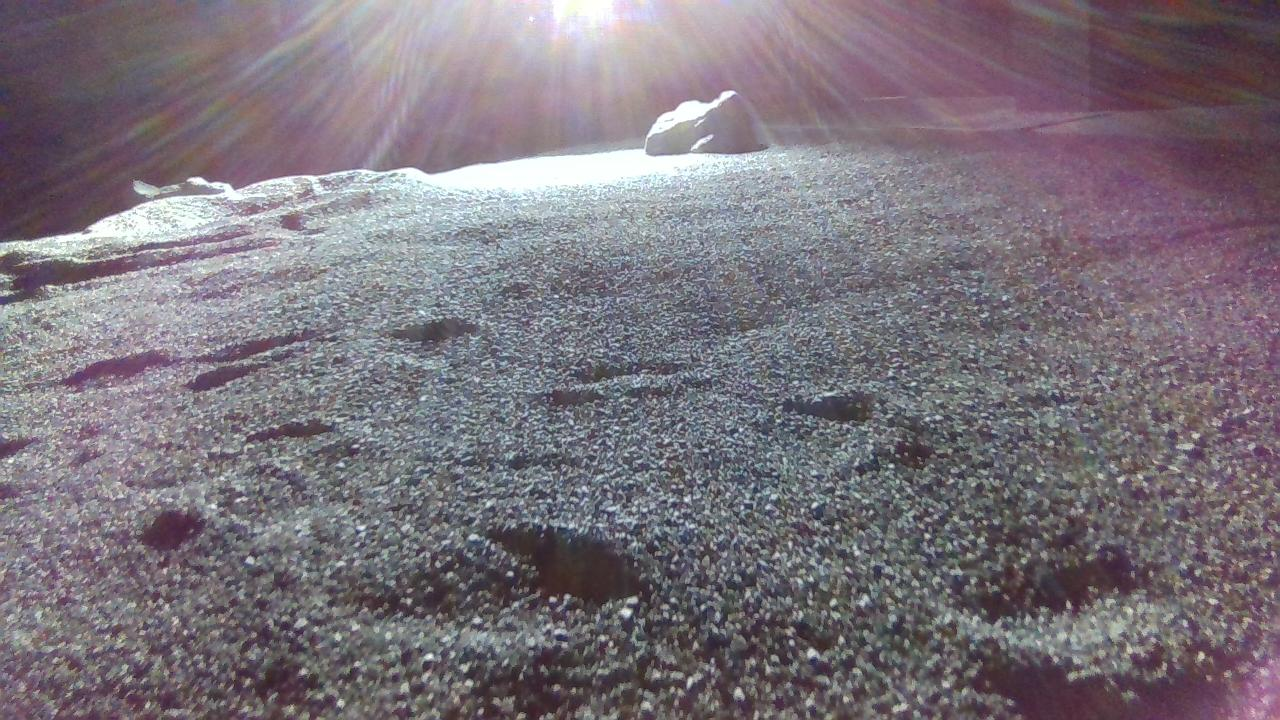rock: (646, 89, 768, 154)
